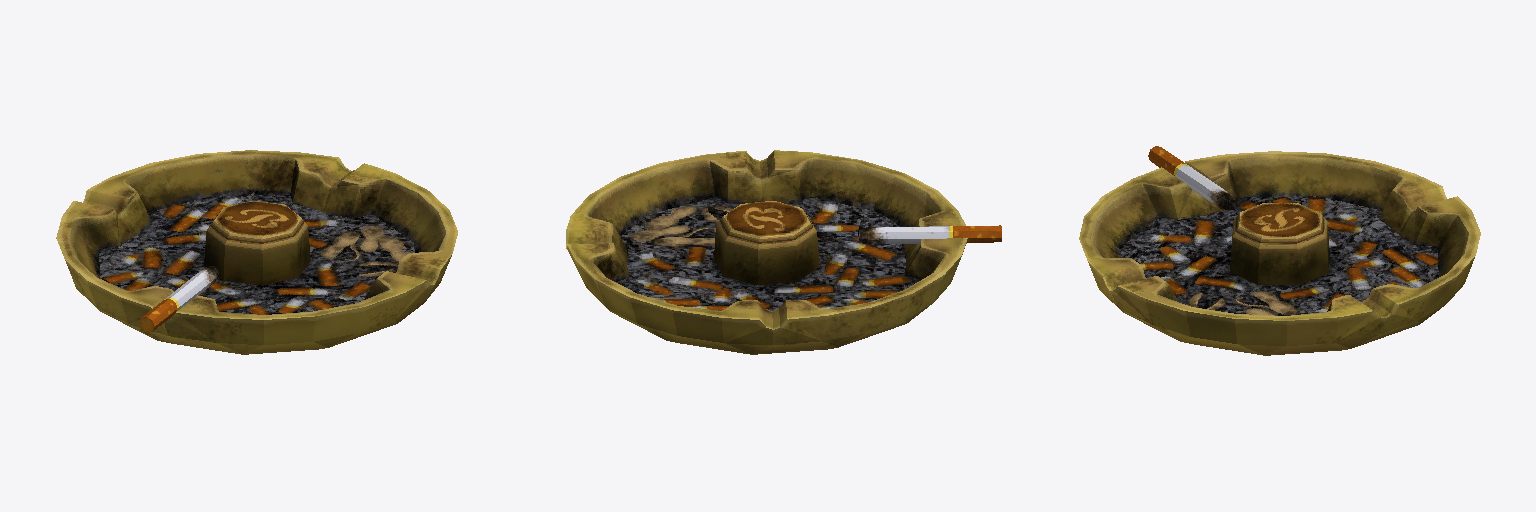
3 views of the same model, side by side, from view 1: azimuth 30°, elevation 25°; view 2: azimuth 150°, elevation 25°; view 3: azimuth 270°, elevation 25° (orthographic).
Parts seen in each view (by area): view 1: Ashtray; view 2: Ashtray; view 3: Ashtray.
Boxes of the visible parts, box(x1,y1,x2,y2) form: Ashtray: box(56, 150, 457, 354); Ashtray: box(566, 150, 1001, 354); Ashtray: box(1079, 146, 1480, 355).
Bounding box in the file's own units: 29.55 × 5.92 × 29.32.
Materials: 1 (1 with a texture image).